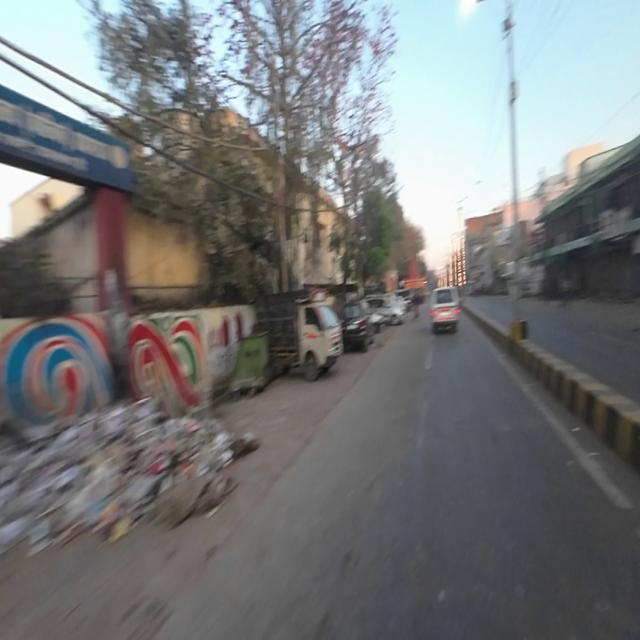Garbage: (6, 397, 228, 535)
